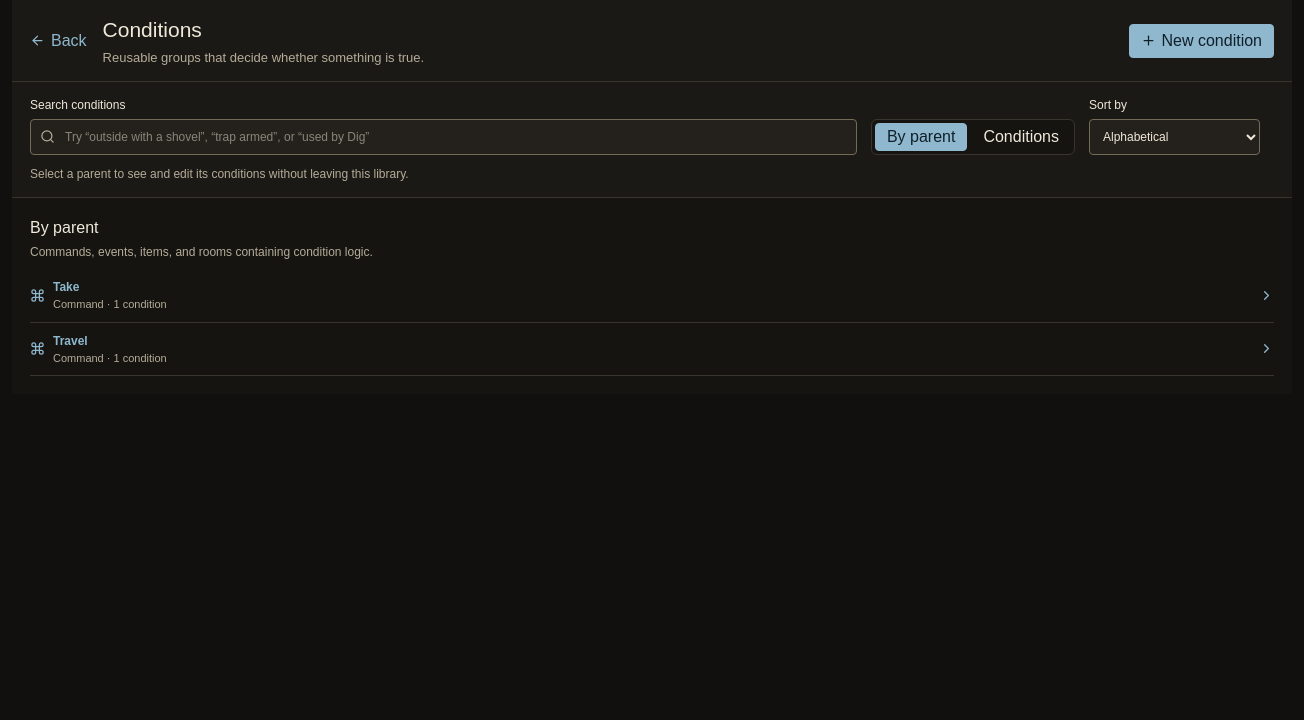
it: LogicLibraryWorkspace › switches to saved-condition view and opens a saved condition directly
Click the button "Conditions" at (1021, 137), box left=971, top=123, right=1071, bottom=151
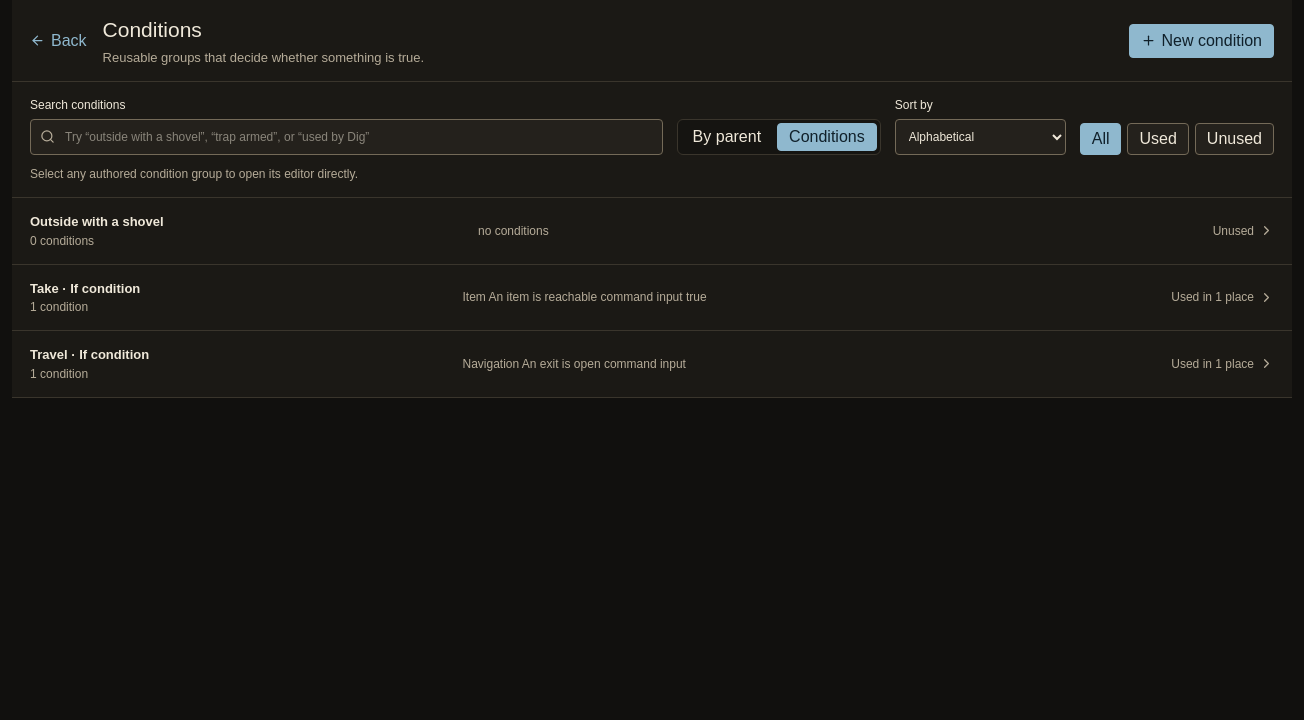
Click the button "Outside with a shovel 0 conditions no conditions Unused" at (97, 222), box left=12, top=198, right=1292, bottom=264
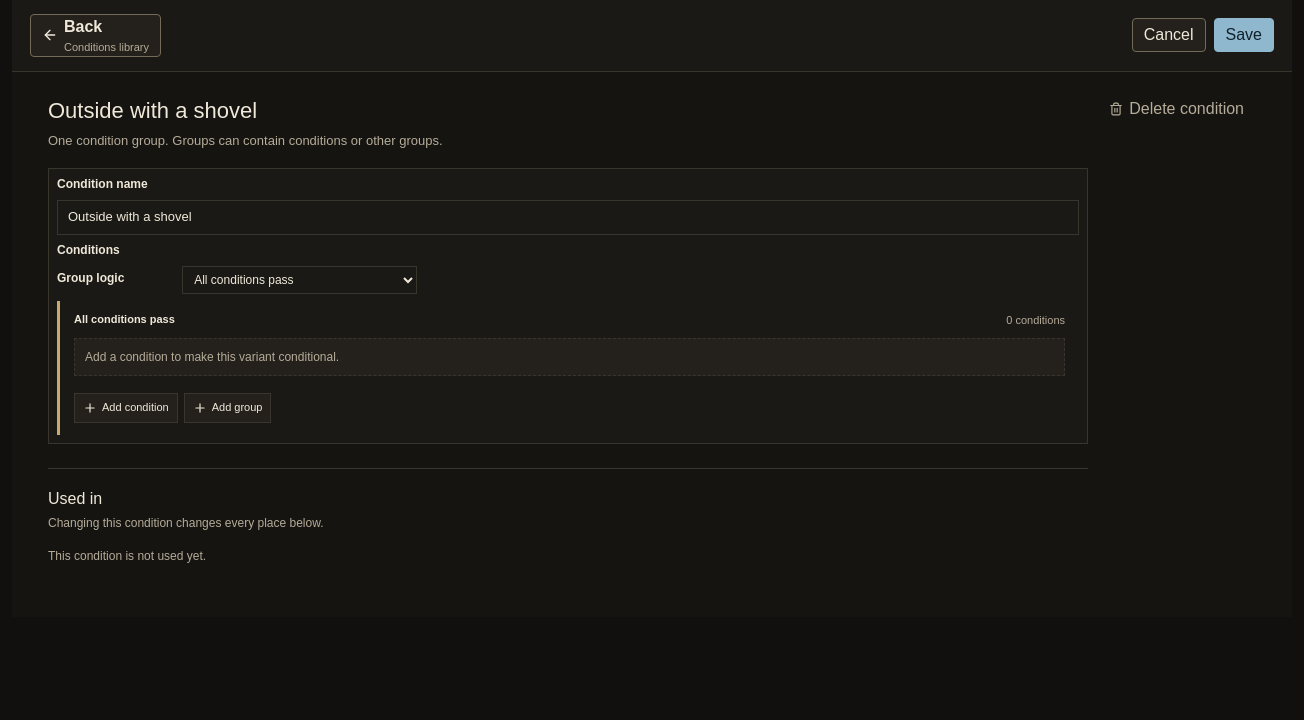
Check: the heading "Outside with a shovel" is shown, box left=48, top=98, right=257, bottom=122
Check: the button "Save" is enabled, box left=1214, top=18, right=1274, bottom=52
